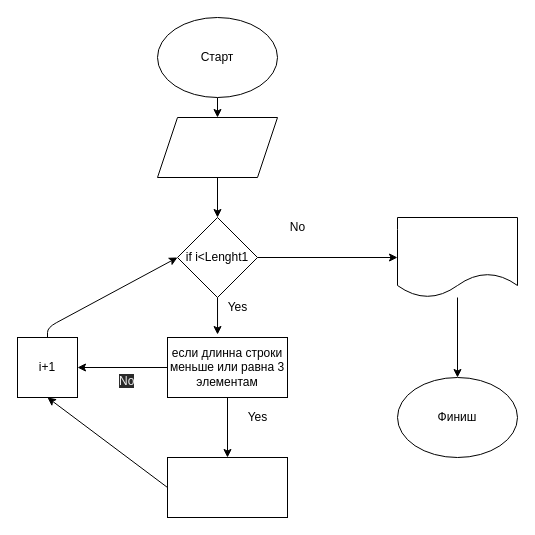
Image size: 535x535. Some labels were removed from this diagram. Each missing label, with the centre of its shape:
Выводим новый массив на печать: the point at 457,257
Добавляем строку в новый массив: the point at 227,487
Массив строк: the point at 217,147
